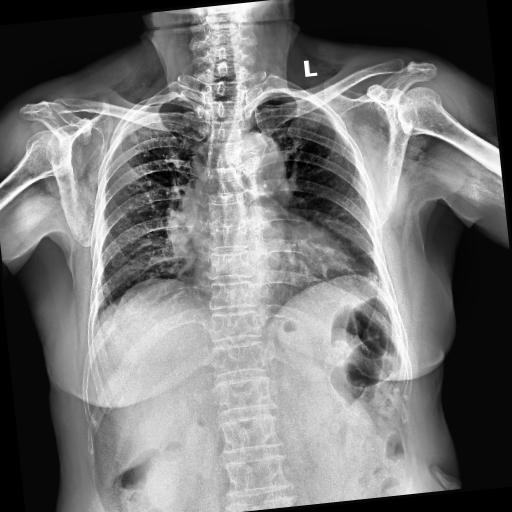0- Aortic enlargement: (222, 126, 286, 198), (225, 128, 288, 196), (233, 131, 286, 186)
11- Pleural thickening: (252, 91, 299, 110), (176, 96, 198, 112)
3- Cardiomegaly: (190, 241, 366, 319), (184, 226, 358, 296), (188, 242, 358, 294)
9- Other lesion: (107, 288, 134, 311)
